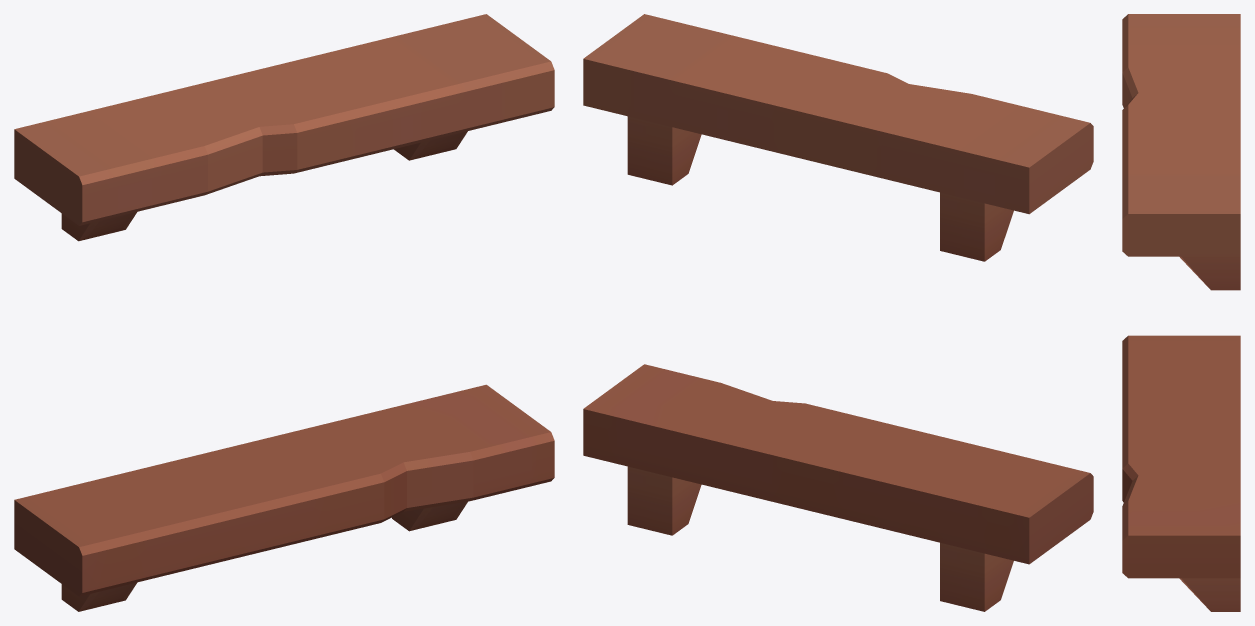
The model's file is shelves.glb.
3 renders of one model, left to right at view 1: azimuth 30°, elevation 25°; view 2: azimuth 150°, elevation 25°; view 3: azimuth 270°, elevation 25°, orthographic. The views are drawn at different scales.
Visible parts, largest first — view 1: shelves; view 2: shelves; view 3: shelves.
Boxes of the visible parts, x1,y1,x2,y2 form: shelves: (14, 14, 554, 611); shelves: (583, 14, 1093, 611); shelves: (1122, 14, 1240, 611).
Bounding box in the file's own units: 2 × 1.95 × 0.5001.
1 material, 1 textured.
